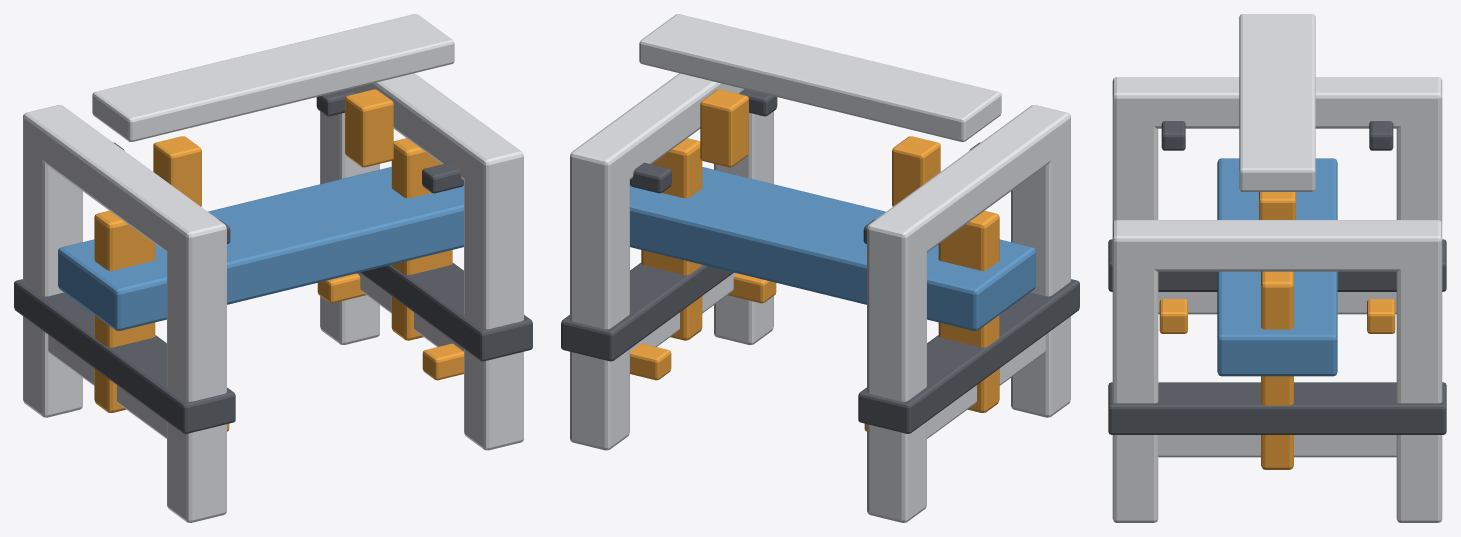
The model's file is btf-framing-jig.glb.
3 views of the same model, side by side, from view 1: azimuth 30°, elevation 25°; view 2: azimuth 150°, elevation 25°; view 3: azimuth 270°, elevation 25° (orthographic).
Visible parts, largest first — view 1: 104-framing-station-jig/1, 104-framing-station-jig/3, 104-framing-station-jig/0, 104-framing-station-jig/2; view 2: 104-framing-station-jig/1, 104-framing-station-jig/3, 104-framing-station-jig/0, 104-framing-station-jig/2; view 3: 104-framing-station-jig/1, 104-framing-station-jig/0, 104-framing-station-jig/3, 104-framing-station-jig/2.
Boxes of the visible parts, box(x1,y1,x2,y2) form: 104-framing-station-jig/1: box(23, 14, 523, 522); 104-framing-station-jig/3: box(58, 167, 463, 330); 104-framing-station-jig/0: box(14, 89, 532, 433); 104-framing-station-jig/2: box(94, 89, 463, 431); 104-framing-station-jig/1: box(570, 14, 1070, 522); 104-framing-station-jig/3: box(630, 167, 1035, 330); 104-framing-station-jig/0: box(561, 89, 1079, 433); 104-framing-station-jig/2: box(630, 89, 999, 431); 104-framing-station-jig/1: box(1112, 14, 1442, 522); 104-framing-station-jig/0: box(1108, 121, 1446, 434); 104-framing-station-jig/3: box(1217, 158, 1337, 376); 104-framing-station-jig/2: box(1159, 192, 1395, 469).
Bounding box in the file's own units: 127791 × 116651 × 101583.
